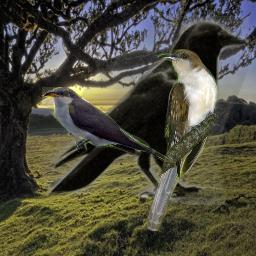Crow: (43, 16, 249, 205)
Cuckoo: (146, 49, 219, 231), (42, 87, 182, 172)
